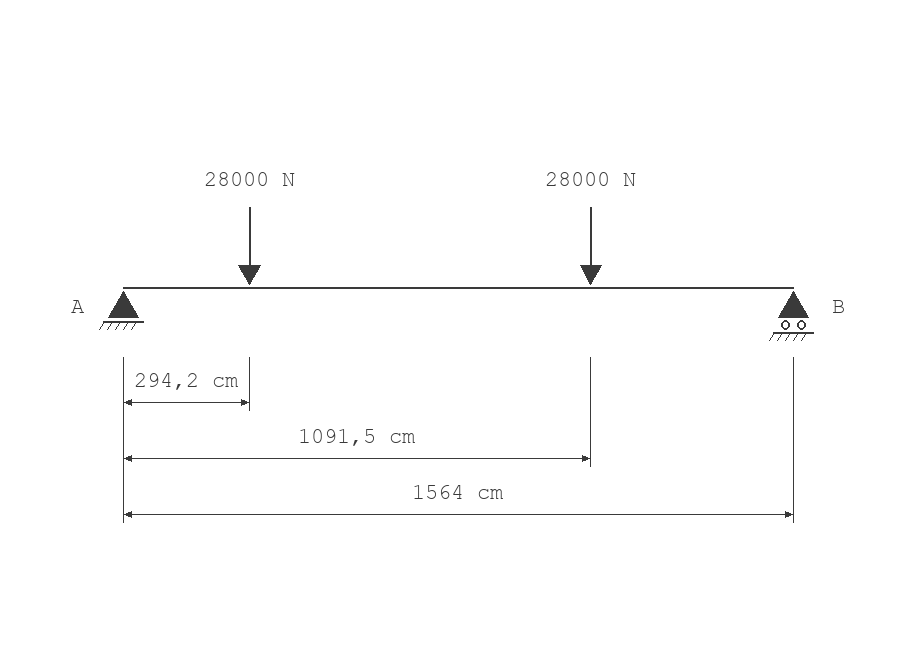pin_support: (99, 291, 144, 330)
point_load: (238, 207, 261, 285), (580, 207, 602, 285)
roller_support: (769, 291, 814, 341)
